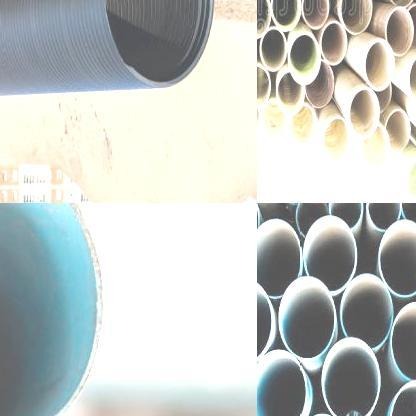pipe: (0, 203, 103, 416), (103, 0, 214, 89), (278, 277, 336, 360), (321, 338, 380, 416), (304, 216, 358, 294), (340, 273, 393, 350), (257, 219, 303, 298), (257, 350, 308, 416), (378, 221, 416, 298), (390, 301, 416, 380), (364, 38, 395, 92), (288, 32, 320, 84), (348, 86, 379, 139), (360, 122, 390, 171), (386, 6, 414, 56), (306, 60, 335, 108), (257, 278, 273, 364), (276, 69, 305, 115), (260, 27, 288, 72), (320, 21, 348, 66), (324, 116, 351, 162), (384, 108, 410, 153), (339, 0, 372, 34), (295, 203, 328, 237), (290, 104, 315, 146), (366, 203, 402, 232), (262, 99, 286, 141), (270, 0, 301, 31), (329, 203, 363, 228), (302, 0, 329, 29), (257, 63, 270, 109), (257, 0, 271, 39), (408, 51, 416, 105), (407, 155, 416, 203), (401, 203, 416, 227)
